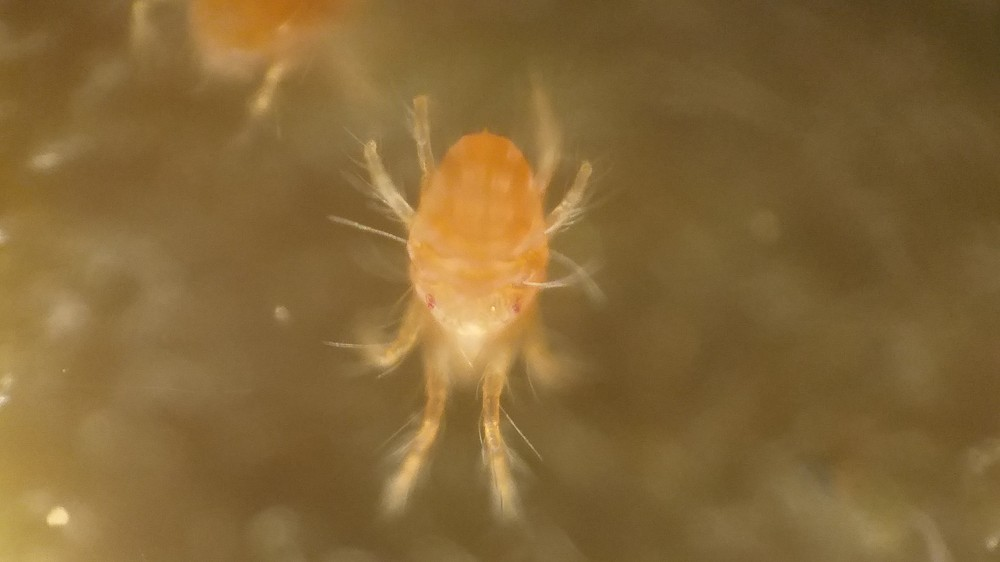Aracnido Rojo: (314, 61, 640, 533)
